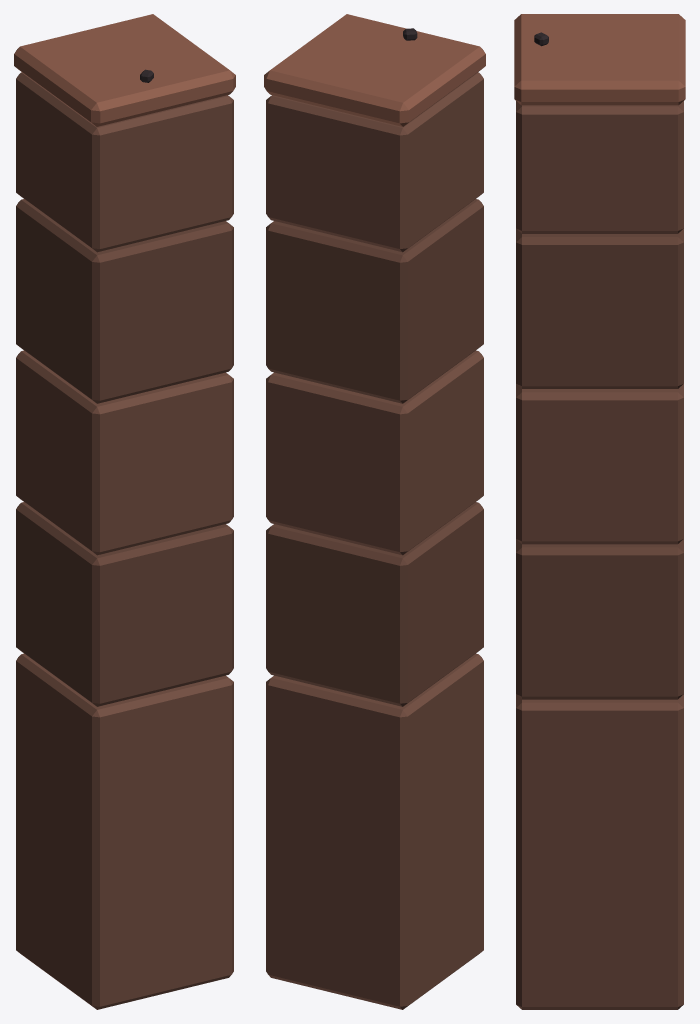
File: column-caldera-5.glb
3 renders of one model, left to right at view 1: azimuth 30°, elevation 25°; view 2: azimuth 150°, elevation 25°; view 3: azimuth 270°, elevation 25°, orthographic. The views are drawn at different scales.
Visible parts, largest first — view 1: column-caldera-5; view 2: column-caldera-5; view 3: column-caldera-5.
Part boxes in pixels (bbox=[...]): column-caldera-5: bbox=[14, 14, 235, 1009]; column-caldera-5: bbox=[264, 14, 485, 1009]; column-caldera-5: bbox=[514, 14, 685, 1009].
Bounding box in the file's own units: 1 × 6.05 × 1.
